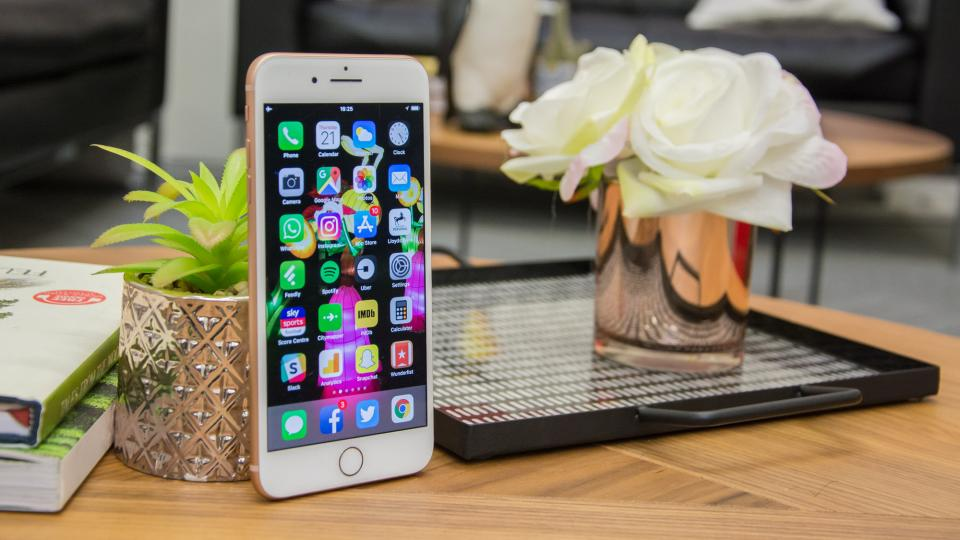iphone: (239, 47, 443, 504)
iphone8: (243, 48, 447, 505)
